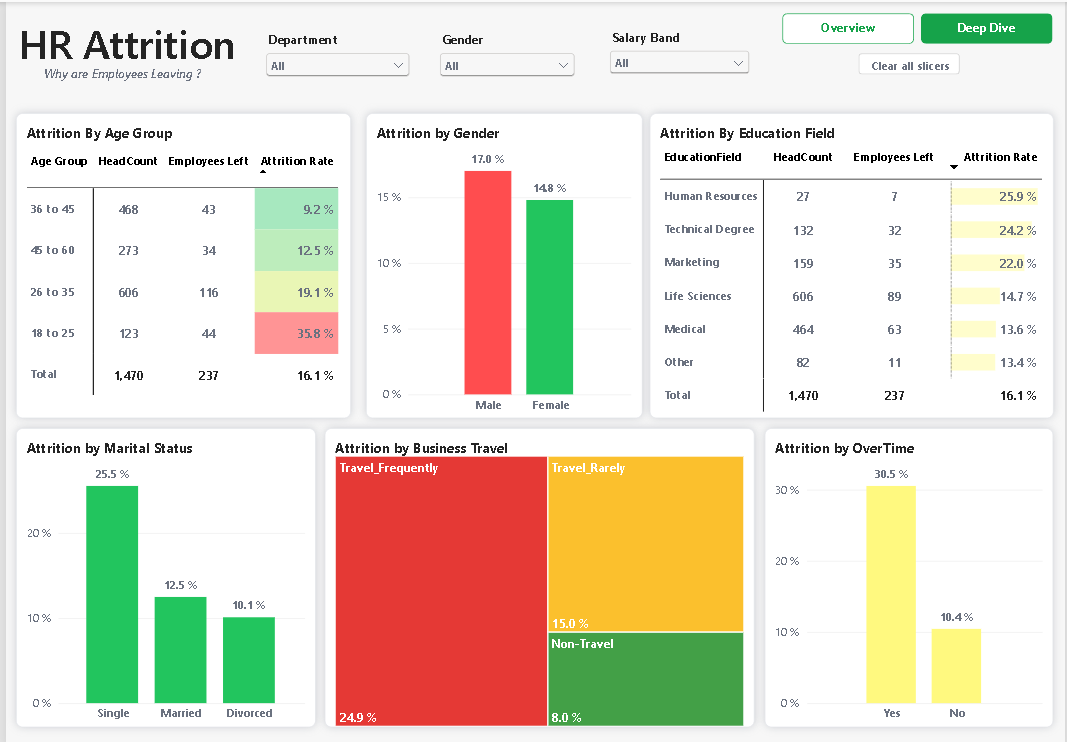

The dashboard page shown, as its layout file describes it:
{"tool":"powerbi","page":{"name":"Deep Dive","canvas":[1280,900],"ordinal":1},"visuals":[{"type":"textbox","box":[12.1,16.6,268.4,92],"z":0},{"type":"textbox","box":[30.2,75.4,205.1,36.2],"z":1000},{"type":"pageNavigator","box":[936.5,13.6,327.2,37.7],"z":6000},{"type":"columnChart","title":"Attrition by Marital Status","fields":{"Category":["HR _Employees.MaritalStatus"],"Y":["HR _Employees.Attrition Rate"]},"box":[12.1,514.2,361.9,360.4],"z":6001},{"type":"treemap","title":"Attrition by Business Travel","fields":{"Group":["HR _Employees.BusinessTravel"],"Values":["HR _Employees.Attrition Rate"]},"box":[384.6,514.2,518.8,360.4],"z":6002},{"type":"columnChart","title":"Attrition by OverTime","fields":{"Category":["HR _Employees.OverTime"],"Y":["HR _Employees.Attrition Rate"]},"box":[915.4,514.2,348.4,360.4],"z":6003},{"type":"columnChart","title":"Attrition by Gender","fields":{"Category":["HR _Employees.Gender"],"Y":["HR _Employees.Attrition Rate"]},"box":[434.3,134.2,333.3,368],"z":6004},{"type":"pivotTable","title":"Attrition By Age Group","fields":{"Rows":["HR _Employees.Age Group"],"Values":["HR _Employees.HeadCount","HR _Employees.Employees Left","HR _Employees.Attrition Rate"]},"box":[12.1,134.2,404.2,368],"z":6005},{"type":"pivotTable","title":"Attrition By Education Field","fields":{"Rows":["HR _Employees.EducationField"],"Values":["HR _Employees.HeadCount","HR _Employees.Employees Left","HR _Employees.Attrition Rate"]},"box":[776.6,134.2,487.1,368],"z":6006},{"type":"slicer","fields":{"Values":["HR _Employees.Department"]},"box":[309.2,34.7,182.5,55.8],"z":6007},{"type":"slicer","fields":{"Values":["HR _Employees.Gender"]},"box":[518.8,34.7,171.9,58.8],"z":6008},{"type":"slicer","fields":{"Values":["HR _Employees.Salary Band"]},"box":[723.9,32,177.9,58.8],"z":6009},{"type":"actionButton","box":[1028.5,61.8,122.2,25.6],"z":6010}]}

Visuals, with their boxes in screenshot pixels (x1, y1, x2, y2), scaled from the page's 1280x900 canvas onto the 1067x742 screenshot:
textbox: {"x1": 10, "y1": 14, "x2": 234, "y2": 90}
textbox: {"x1": 25, "y1": 62, "x2": 196, "y2": 92}
pageNavigator: {"x1": 781, "y1": 11, "x2": 1053, "y2": 42}
"Attrition by Marital Status" columnChart: {"x1": 10, "y1": 424, "x2": 312, "y2": 721}
"Attrition by Business Travel" treemap: {"x1": 321, "y1": 424, "x2": 753, "y2": 721}
"Attrition by OverTime" columnChart: {"x1": 763, "y1": 424, "x2": 1053, "y2": 721}
"Attrition by Gender" columnChart: {"x1": 362, "y1": 111, "x2": 640, "y2": 414}
"Attrition By Age Group" pivotTable: {"x1": 10, "y1": 111, "x2": 347, "y2": 414}
"Attrition By Education Field" pivotTable: {"x1": 647, "y1": 111, "x2": 1053, "y2": 414}
slicer - HR _Employees.Department: {"x1": 258, "y1": 29, "x2": 410, "y2": 75}
slicer - HR _Employees.Gender: {"x1": 432, "y1": 29, "x2": 576, "y2": 77}
slicer - HR _Employees.Salary Band: {"x1": 603, "y1": 26, "x2": 752, "y2": 75}
actionButton: {"x1": 857, "y1": 51, "x2": 959, "y2": 72}
